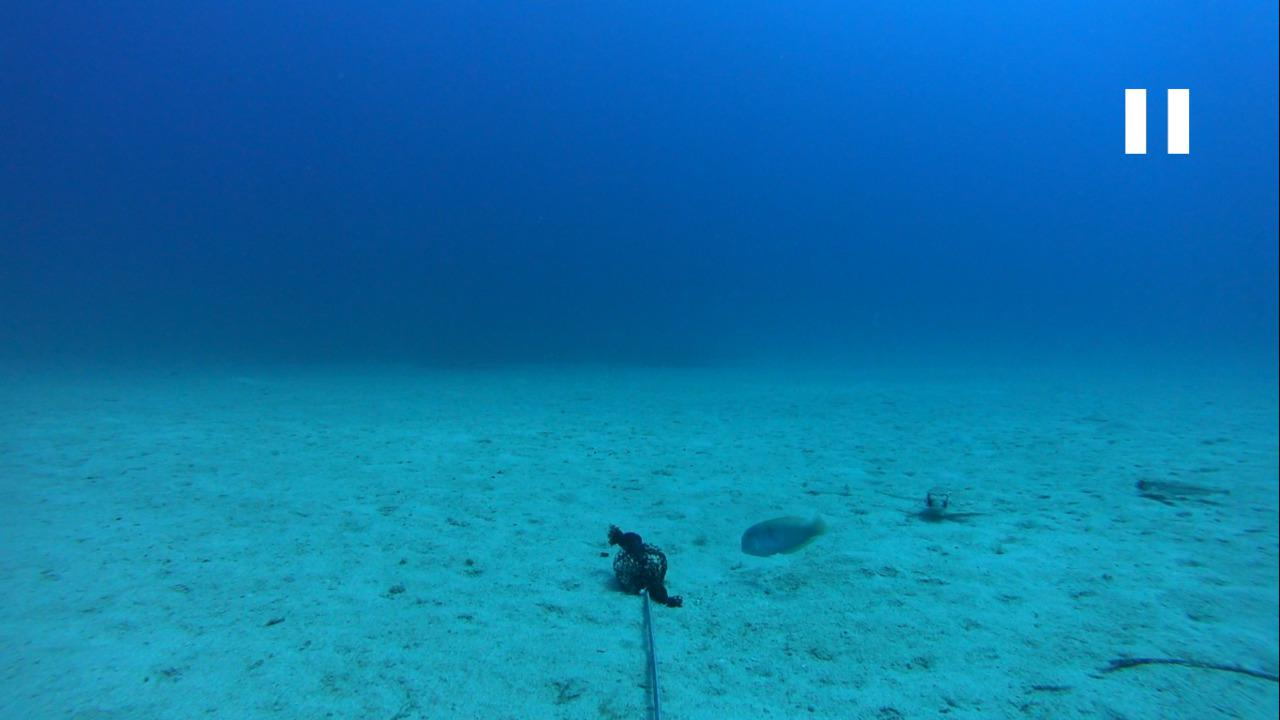dactylopterus: (1123, 473, 1233, 511), (901, 485, 969, 519)
raor: (735, 507, 828, 563)
